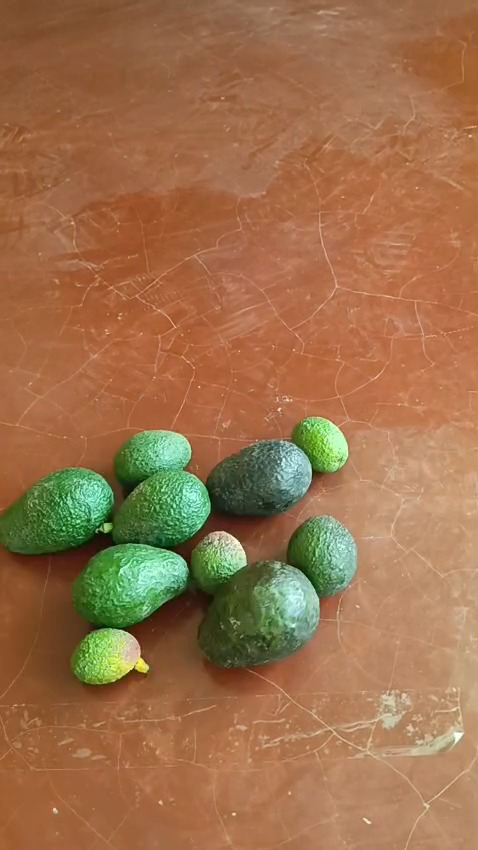Primera: (196, 560, 320, 666), (71, 542, 190, 627), (1, 467, 116, 554), (205, 440, 312, 516), (111, 470, 211, 548)
Segunda: (286, 514, 357, 597), (113, 429, 193, 489)
Tercera: (70, 626, 141, 684), (190, 530, 248, 594), (290, 415, 348, 472)
